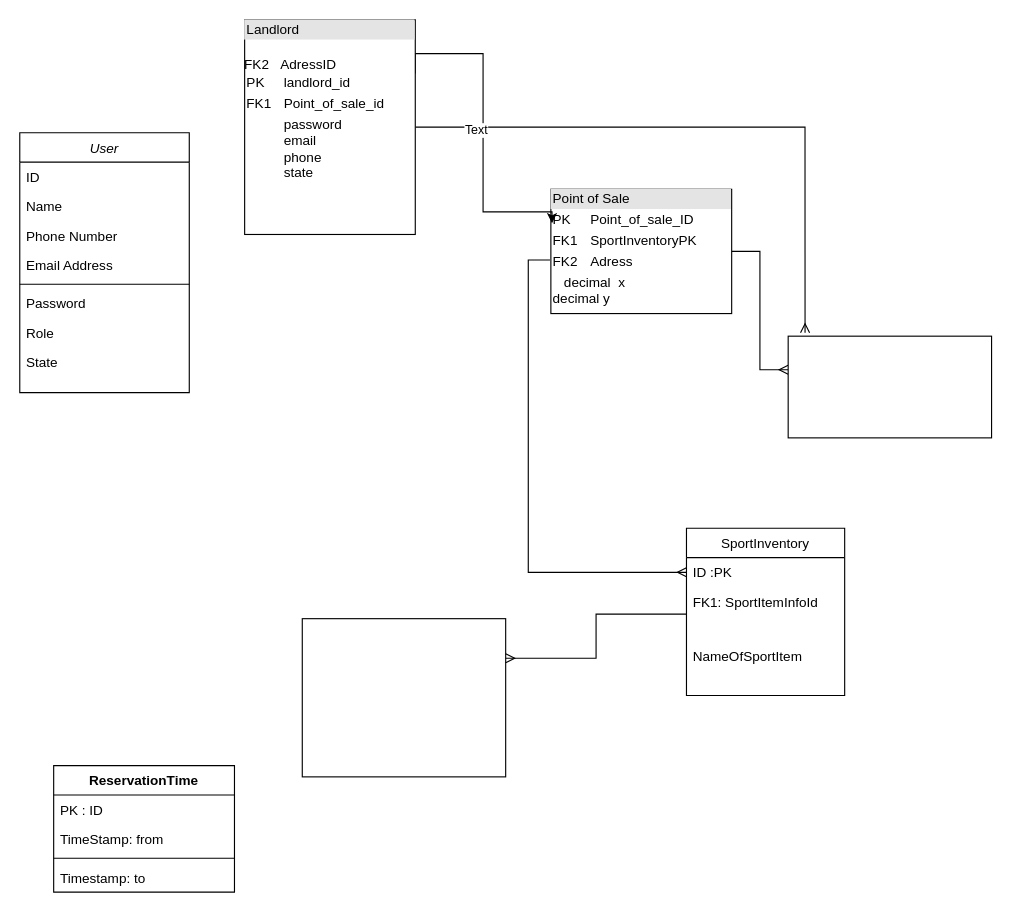
This 1011x915 diagram has some shape labels left out. Each missing label, with the centre of its shape:
"Adress PK AdresId String Street String Home" goes at pixel 889 386.
"SportItemInfo FK ReservationTime PK SportItemInfoId String StateOfSportItem" goes at pixel 403 697.
